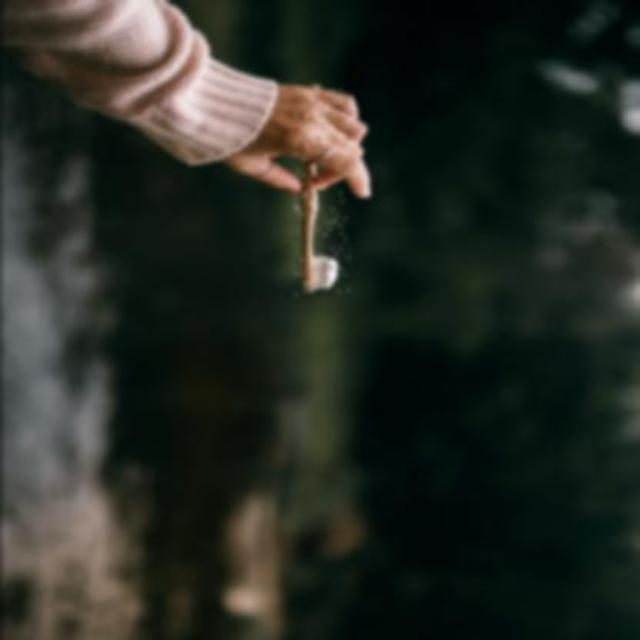toothbrush: (294, 81, 348, 296)
